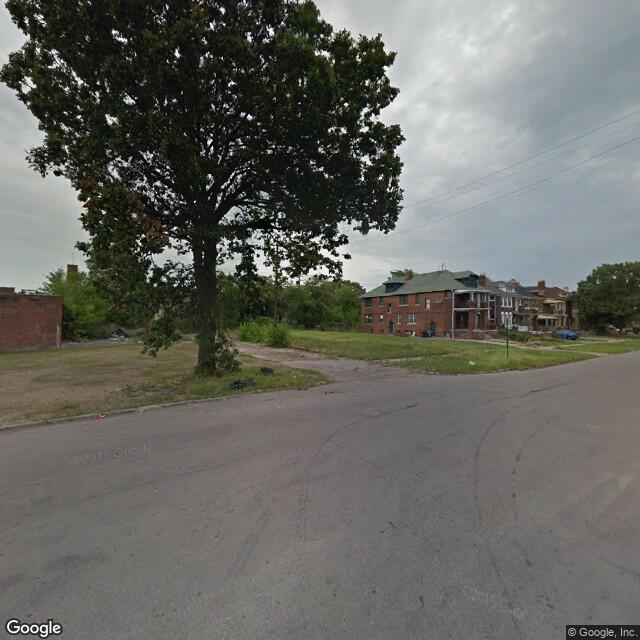litter: (96, 413, 110, 419), (466, 358, 474, 368)
